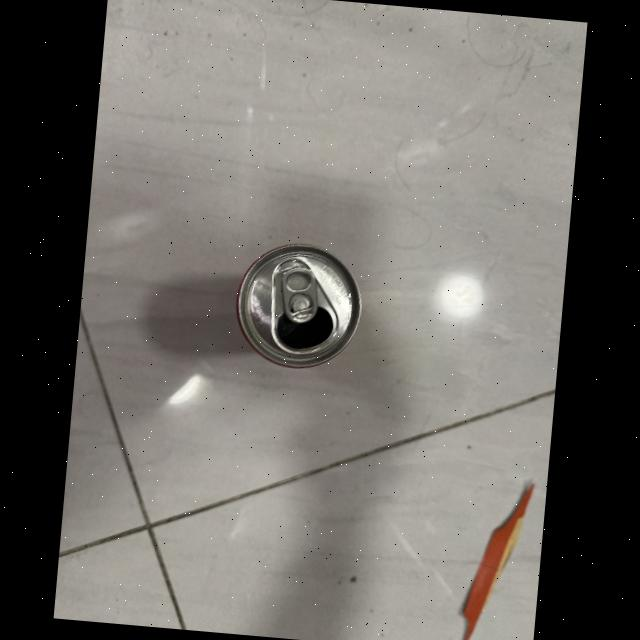Cola: (222, 228, 368, 380)
